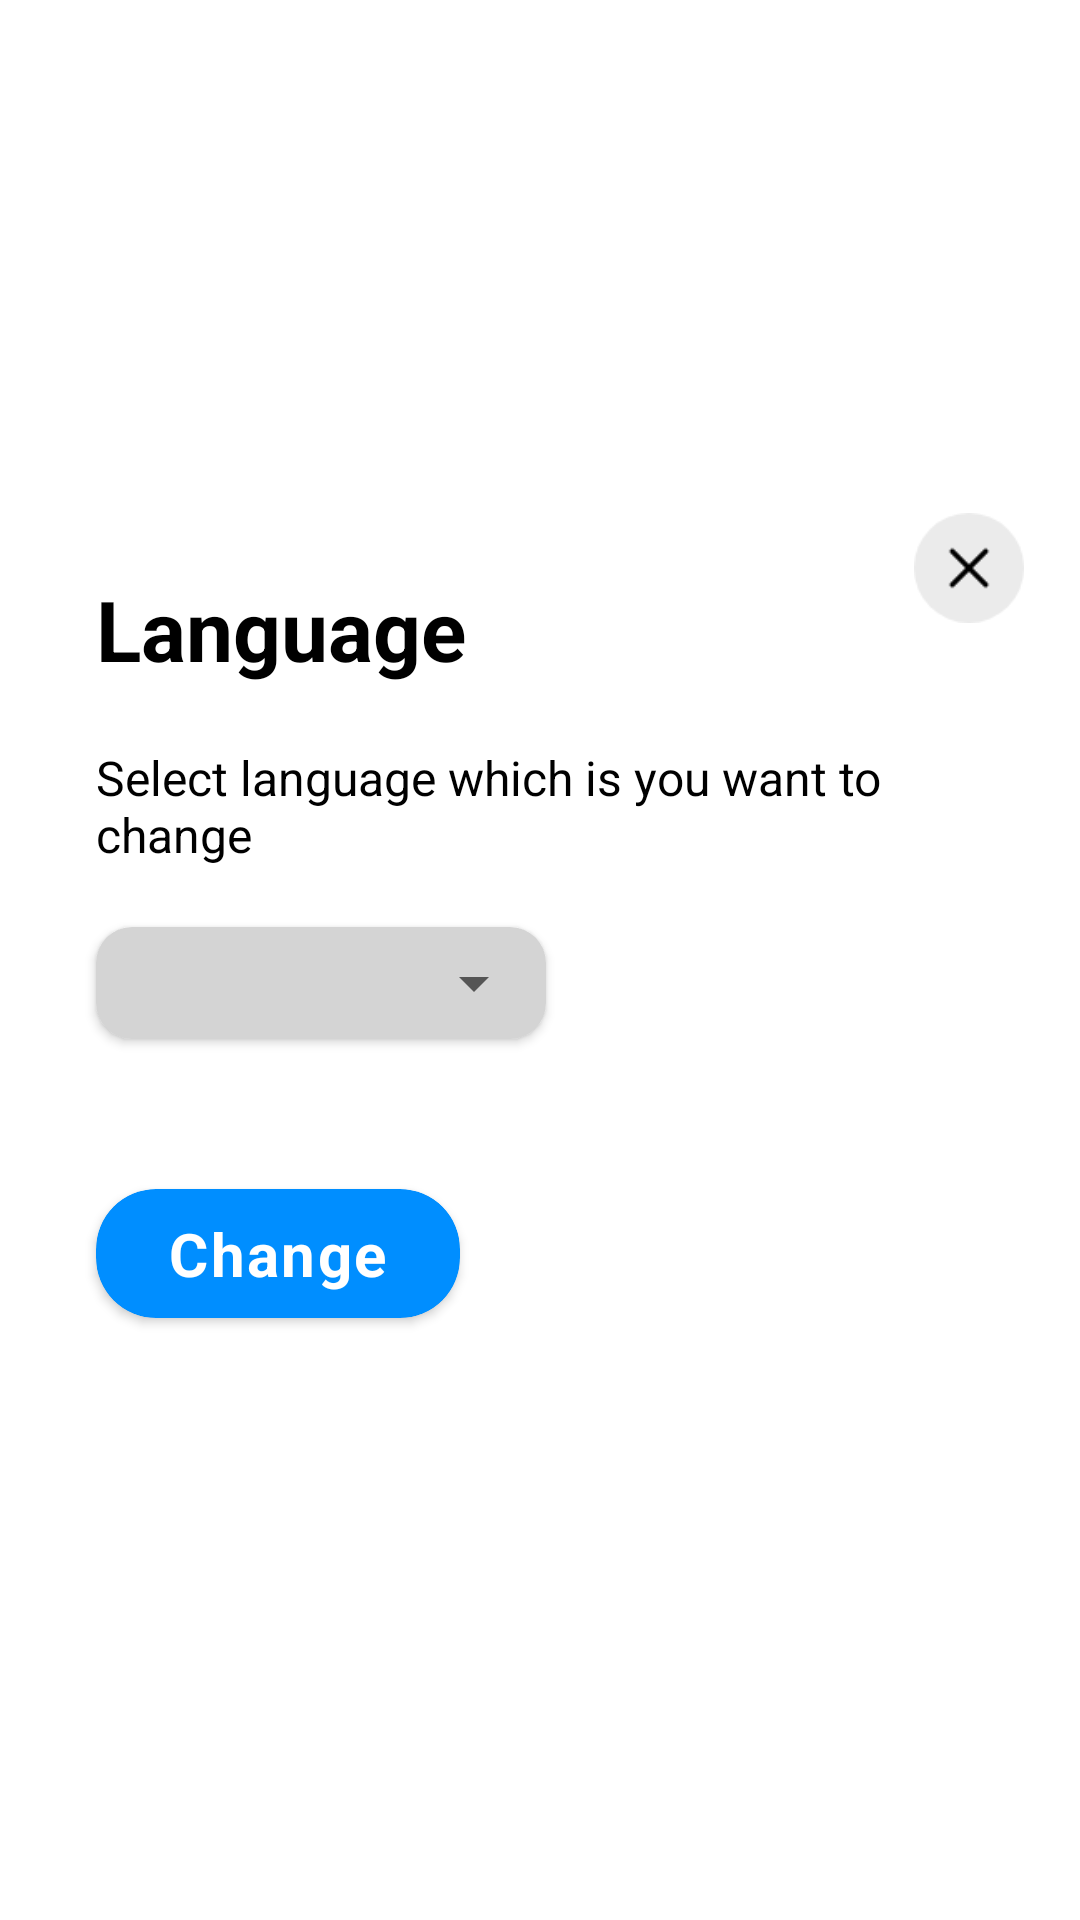

Where to tap for icons on this 1080px×1920px app screen, as [x,y]:
closearrow: [969,568]
